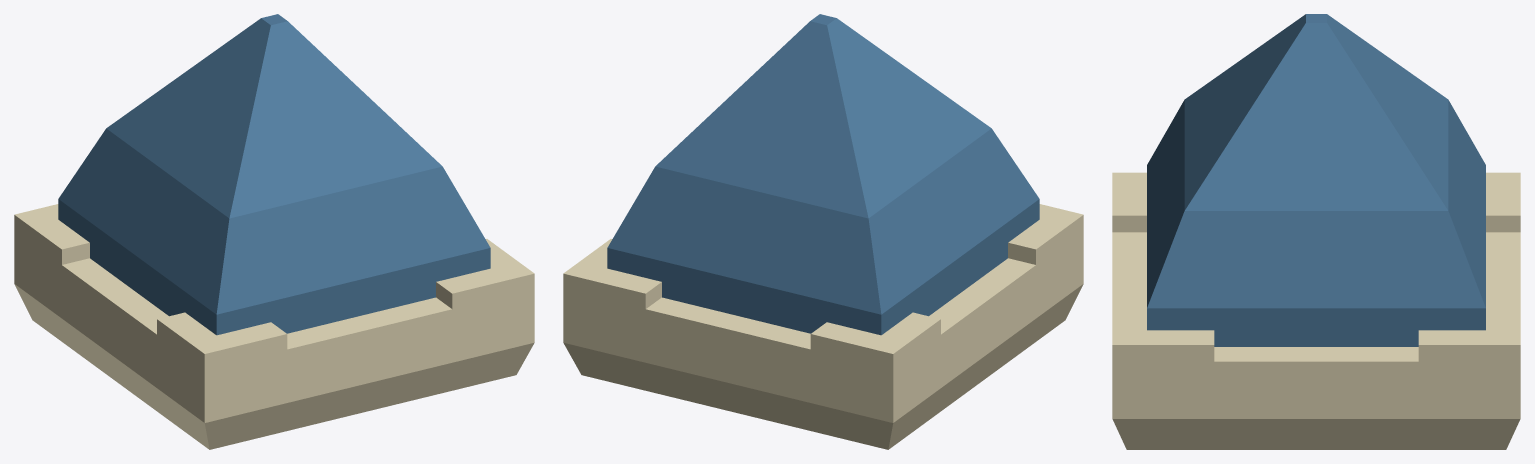
File: towerSquareTopRoofHighDetail.fbx
3 views of the same model, side by side, from view 1: azimuth 30°, elevation 25°; view 2: azimuth 150°, elevation 25°; view 3: azimuth 270°, elevation 25° (orthographic). The views are drawn at different scales.
Parts seen in each view (by area): view 1: towerSquareTopRoofHighDetail; view 2: towerSquareTopRoofHighDetail; view 3: towerSquareTopRoofHighDetail.
Boxes of the visible parts, left/top/right/bottom form: towerSquareTopRoofHighDetail: left=14, top=14, right=534, bottom=449; towerSquareTopRoofHighDetail: left=563, top=14, right=1083, bottom=449; towerSquareTopRoofHighDetail: left=1112, top=14, right=1520, bottom=449.
Bounding box in the file's own units: 10 × 9.5 × 10.
